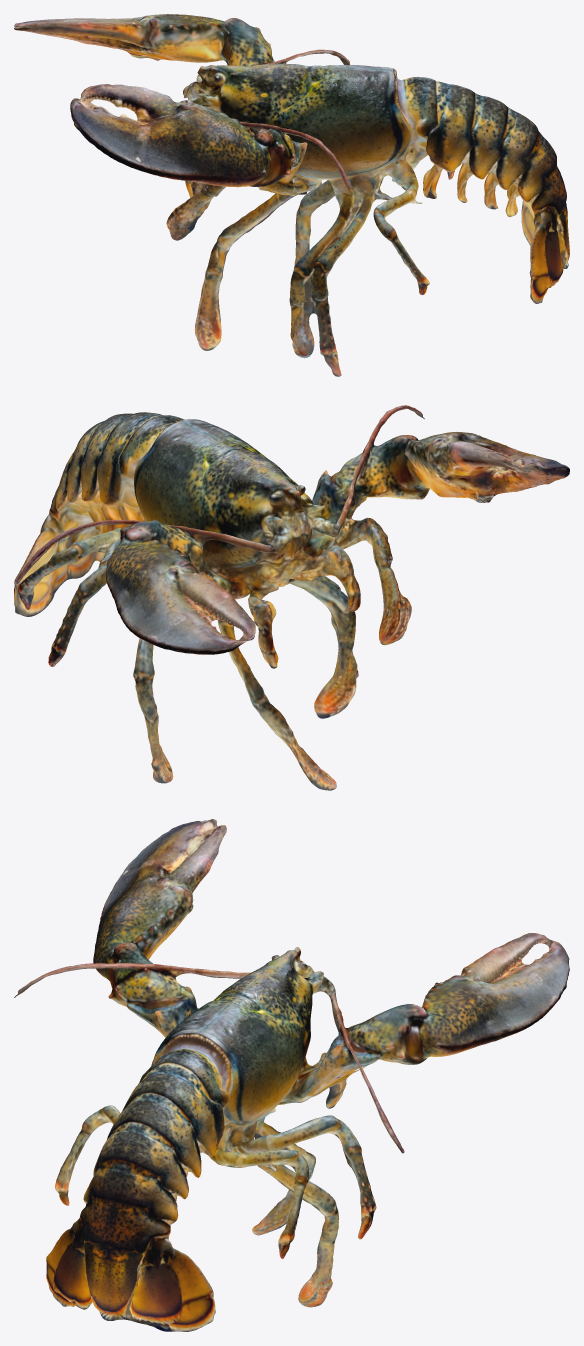
File: sw_lobster.glb
The picture shows the model from 3 angles, top to bottom: view 1: azimuth 30°, elevation 25°; view 2: azimuth 150°, elevation 25°; view 3: azimuth 270°, elevation 25°; orthographic projection. The views are drawn at different scales.
Visible parts, largest first — view 1: Object_4, Object_5; view 2: Object_4, Object_5; view 3: Object_4, Object_5.
Boxes of the visible parts, x1,y1,x2,y2 form: Object_4: [14, 14, 568, 358]; Object_5: [14, 18, 569, 376]; Object_4: [14, 412, 568, 790]; Object_5: [17, 405, 569, 789]; Object_4: [46, 819, 569, 1331]; Object_5: [14, 828, 569, 1316].
Size of the model in its own units: 2.39 by 1.54 by 2.24.
Materials: 1 (1 with a texture image).
